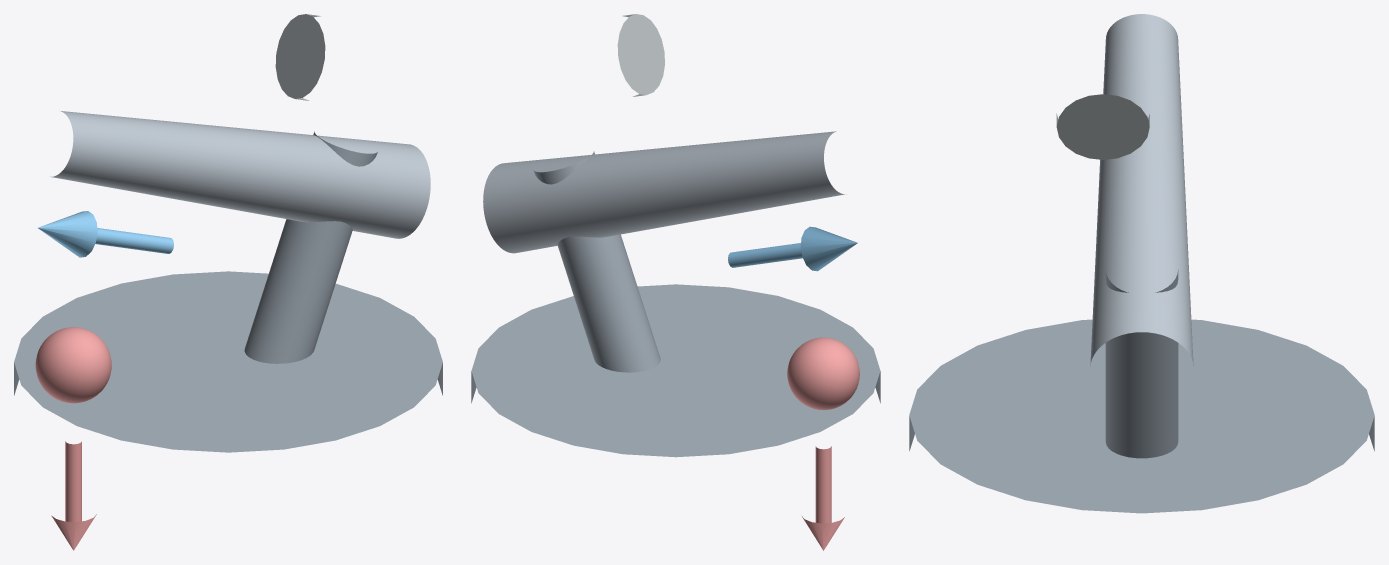
The model's file is projectile-launcher.glb.
The picture shows the model from 3 angles, left to right: view 1: azimuth 30°, elevation 25°; view 2: azimuth 150°, elevation 25°; view 3: azimuth 270°, elevation 25°; orthographic projection. The views are drawn at different scales.
Visible parts, largest first — view 1: launcher_base, launcher_barrel, launcher_support, projectile, calibration_ring, launch_velocity, gravity_force; view 2: launcher_base, launcher_barrel, launcher_support, projectile, calibration_ring, launch_velocity, gravity_force; view 3: launcher_base, launcher_barrel, launcher_support, calibration_ring.
Boxes of the visible parts, <box> form: launcher_base: <box>14,271,442,452</box>; launcher_barrel: <box>50,111,430,238</box>; launcher_support: <box>244,131,377,363</box>; projectile: <box>35,327,111,403</box>; calibration_ring: <box>275,14,325,100</box>; launch_velocity: <box>38,211,173,257</box>; gravity_force: <box>51,441,96,550</box>; launcher_base: <box>471,284,880,457</box>; launcher_barrel: <box>483,131,846,253</box>; launcher_support: <box>533,151,660,372</box>; projectile: <box>787,337,859,410</box>; calibration_ring: <box>617,14,664,96</box>; launch_velocity: <box>728,226,857,271</box>; gravity_force: <box>802,446,844,550</box>; launcher_base: <box>909,319,1374,513</box>; launcher_barrel: <box>1090,14,1193,365</box>; launcher_support: <box>1105,269,1178,458</box>; calibration_ring: <box>1056,94,1149,159</box>.
Bounding box in the file's own units: 1.07 × 1.33 × 1.05.
